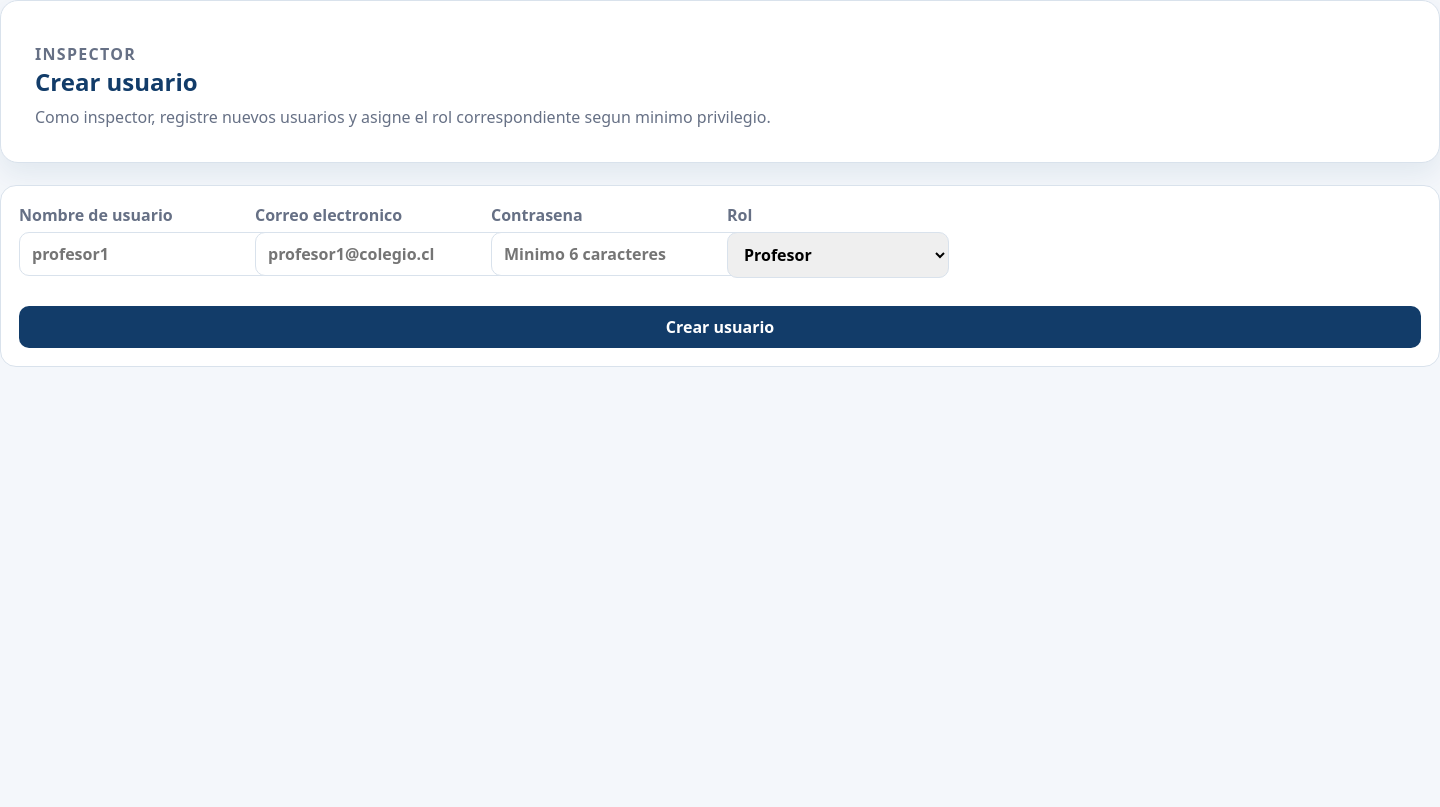
Test: CrearUsuario › al elegir alumno carga proximo id estimado
Select "Alumno" in the dropdown labelled "Rol". click: (838, 255)
box: x1=727 y1=232 x2=949 y2=278
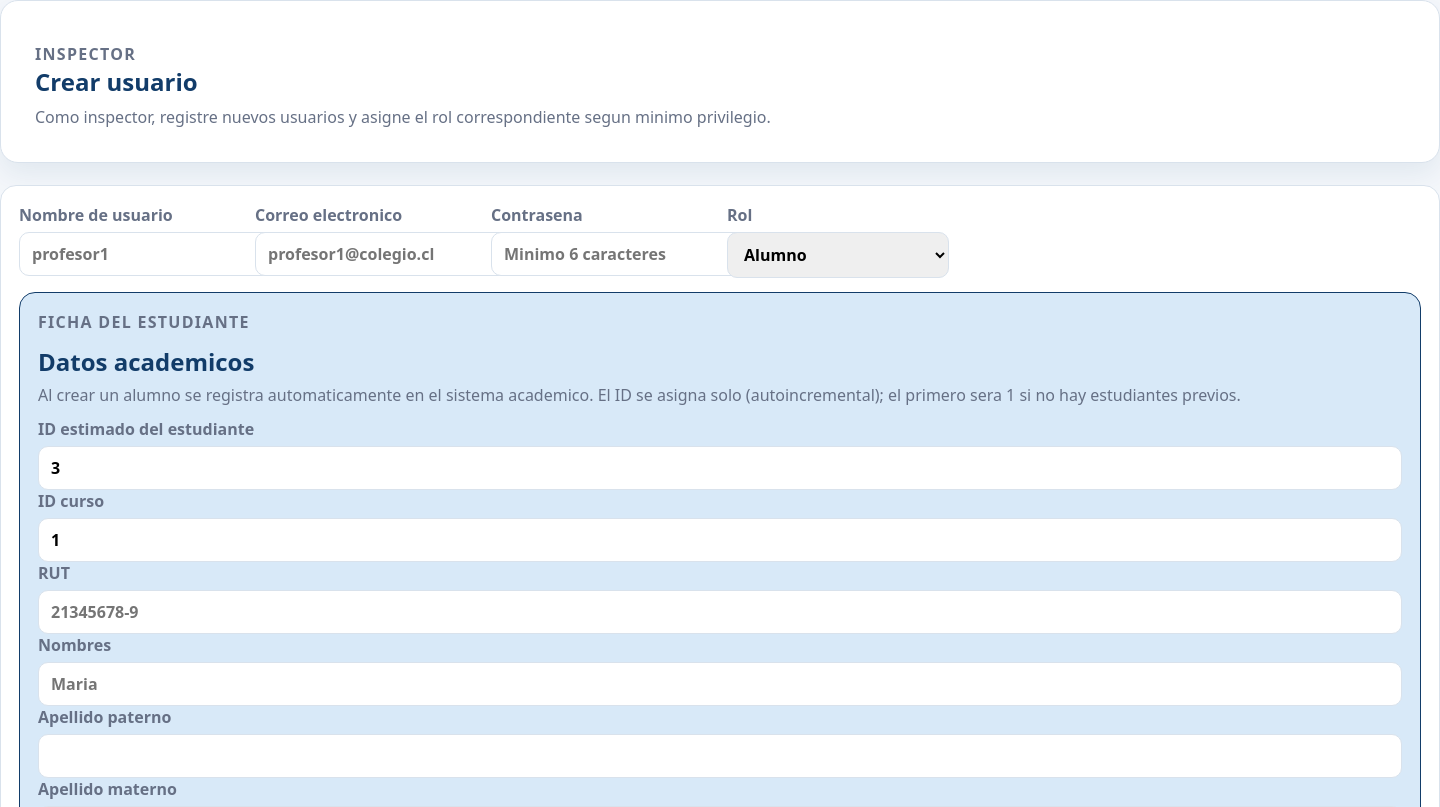
Check: the field showing "3" is shown, box x1=38 y1=446 x2=1402 y2=490
